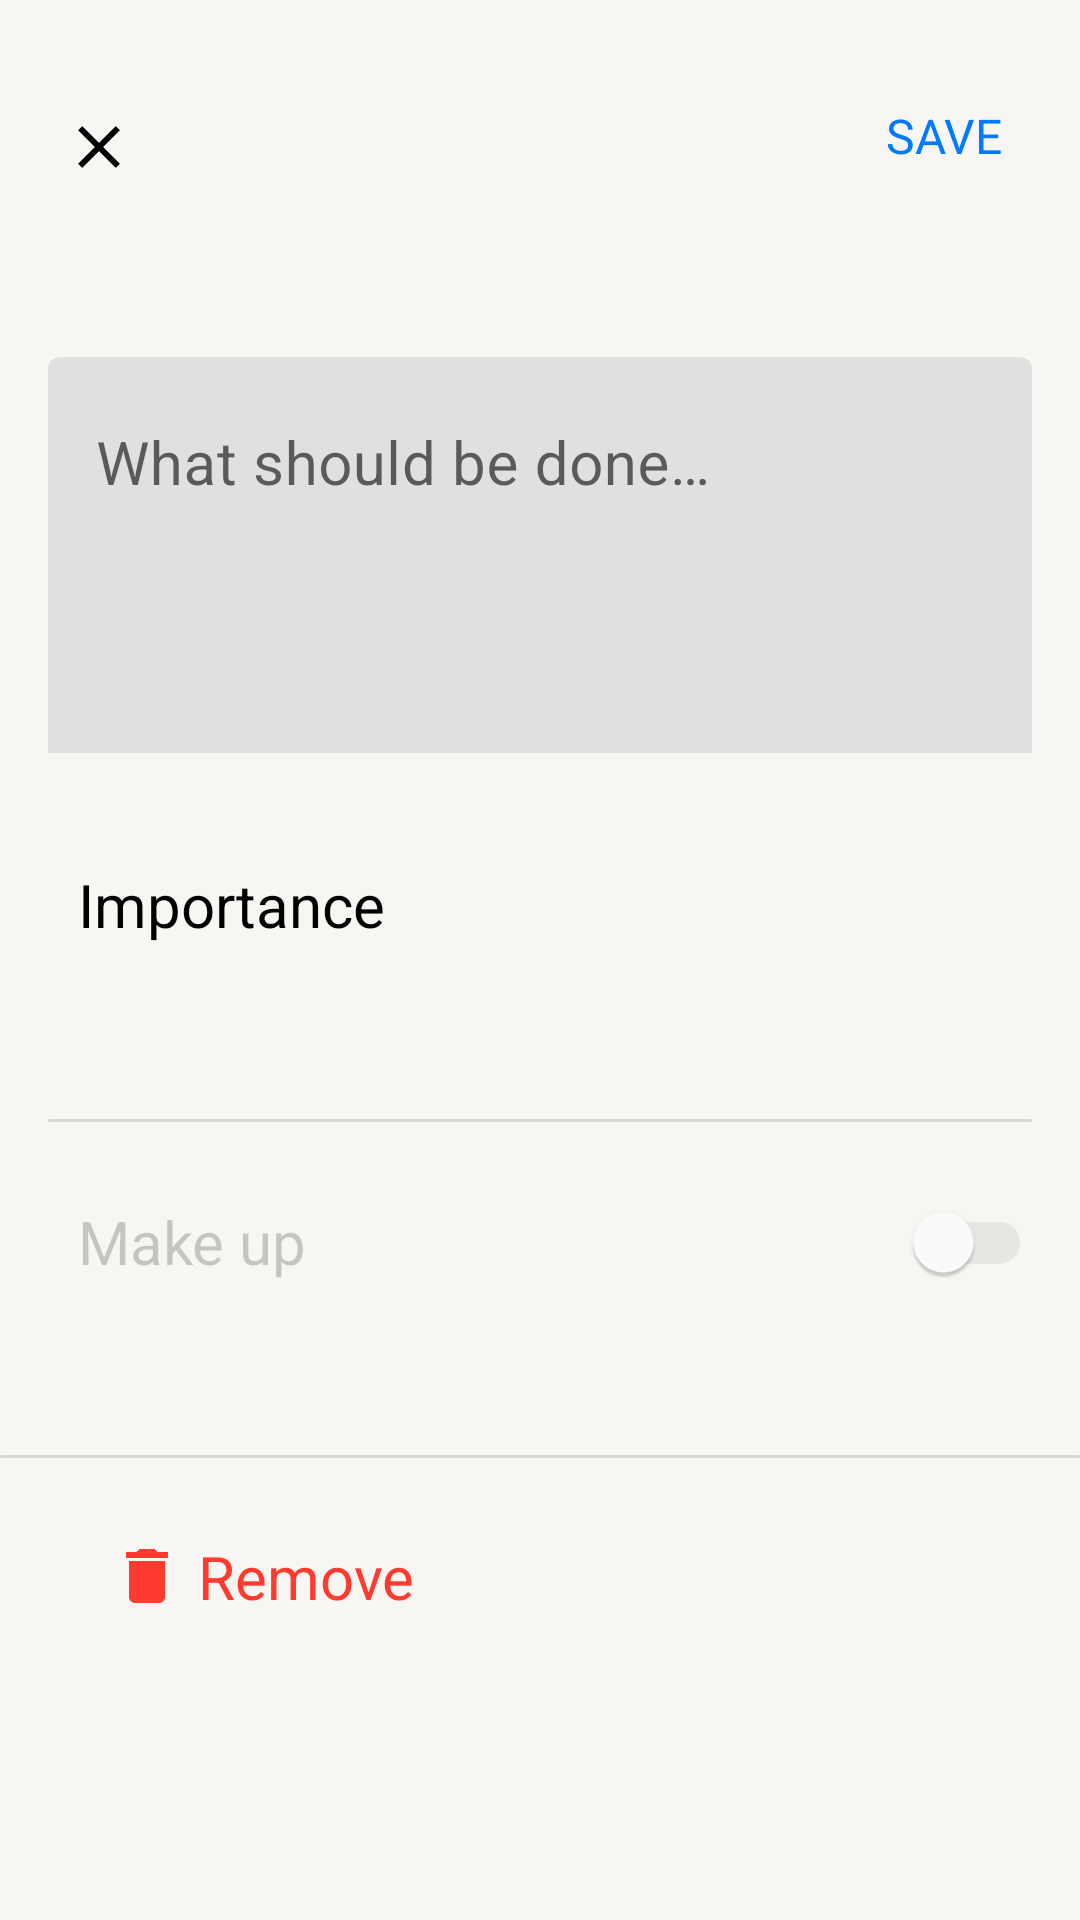

Screen size 1080w x 1920h. Icon name, then its center in pixels as point (x, y):
Cancel: point (99, 147)
